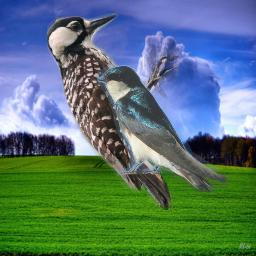Swallow: (97, 65, 229, 193)
Woodpecker: (46, 13, 179, 210)
